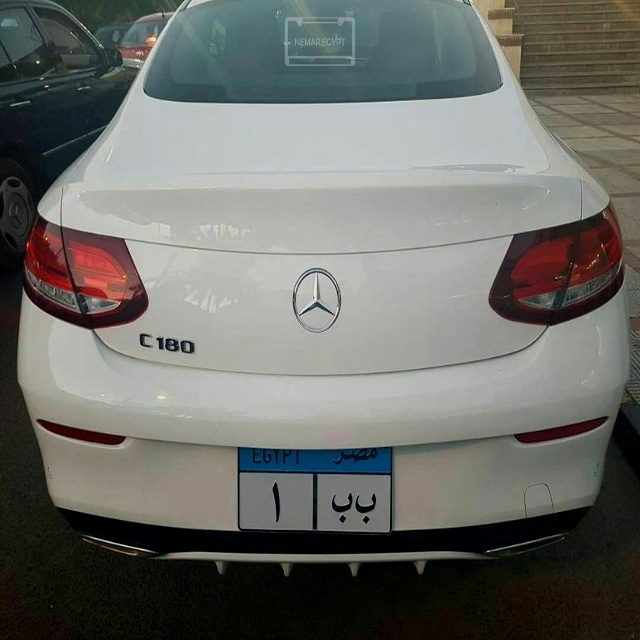License Plate: (235, 439, 395, 540)
